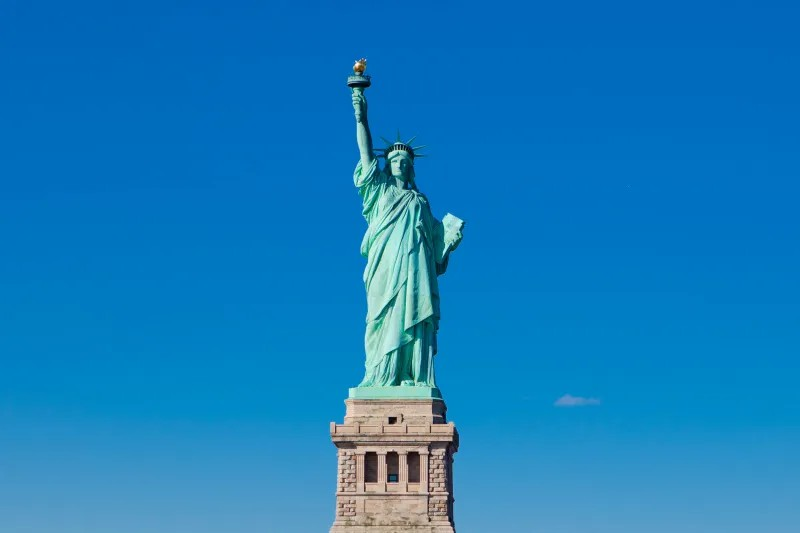SL: (329, 59, 466, 533)
